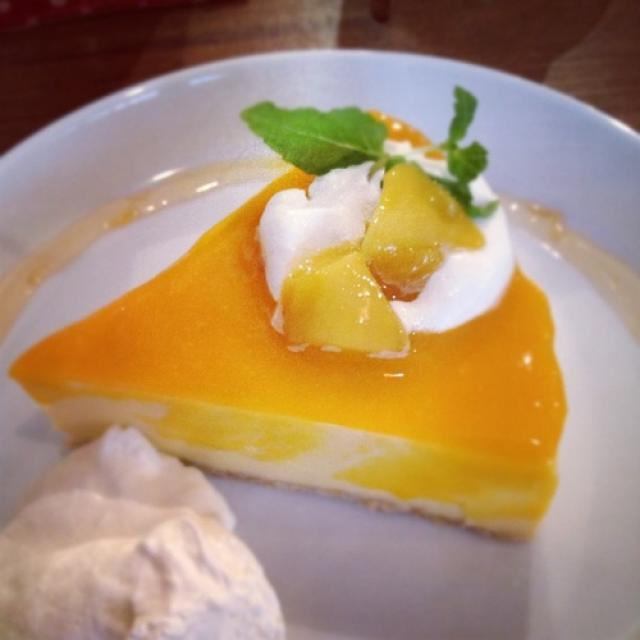Rare cheese cake: (4, 83, 640, 553)
